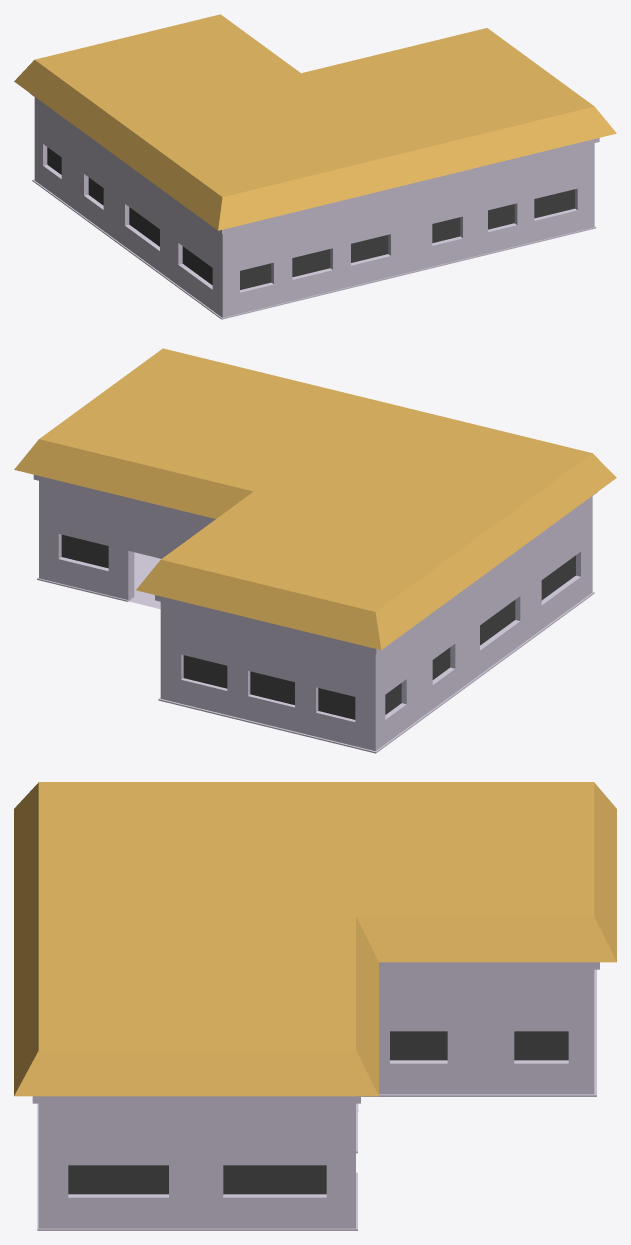
Rendered from big_house.fbx.
The picture shows the model from 3 angles, top to bottom: view 1: azimuth 30°, elevation 25°; view 2: azimuth 150°, elevation 25°; view 3: azimuth 270°, elevation 25°; orthographic projection. The views are drawn at different scales.
Parts seen in each view (by area): view 1: houseBig; view 2: houseBig; view 3: houseBig.
Boxes of the visible parts, left/top/right/bottom form: houseBig: left=14, top=14, right=616, bottom=319; houseBig: left=14, top=348, right=616, bottom=753; houseBig: left=14, top=782, right=616, bottom=1230.
Size of the model in its own units: 17.15 by 5 by 15.2.
